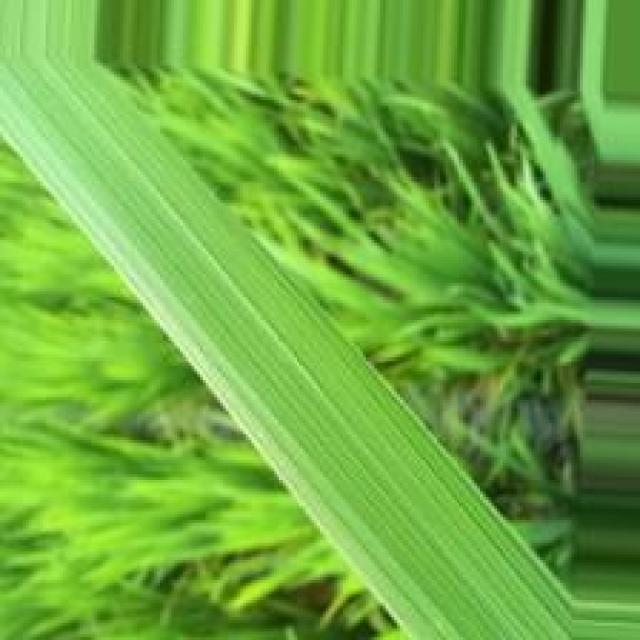HealthyLeaf: (2, 0, 636, 640)
